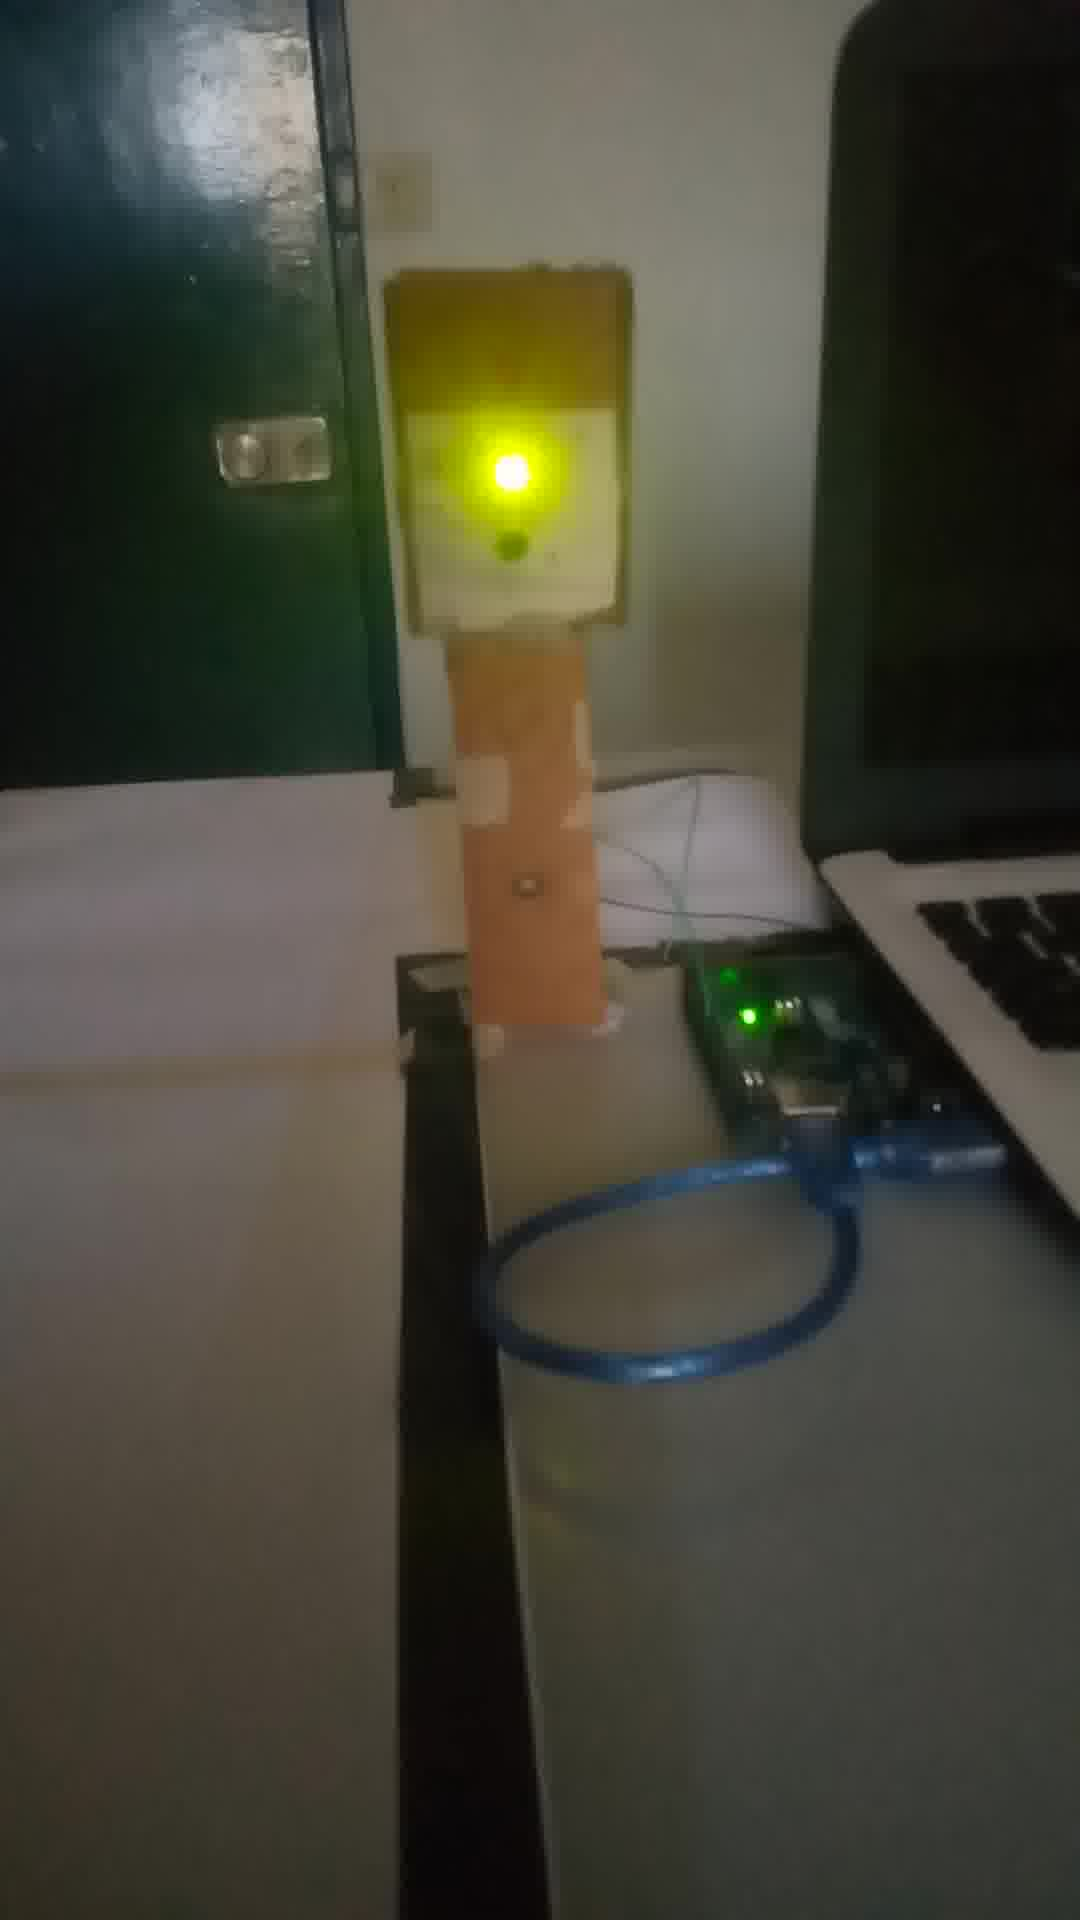yellow: (390, 262, 615, 629)
